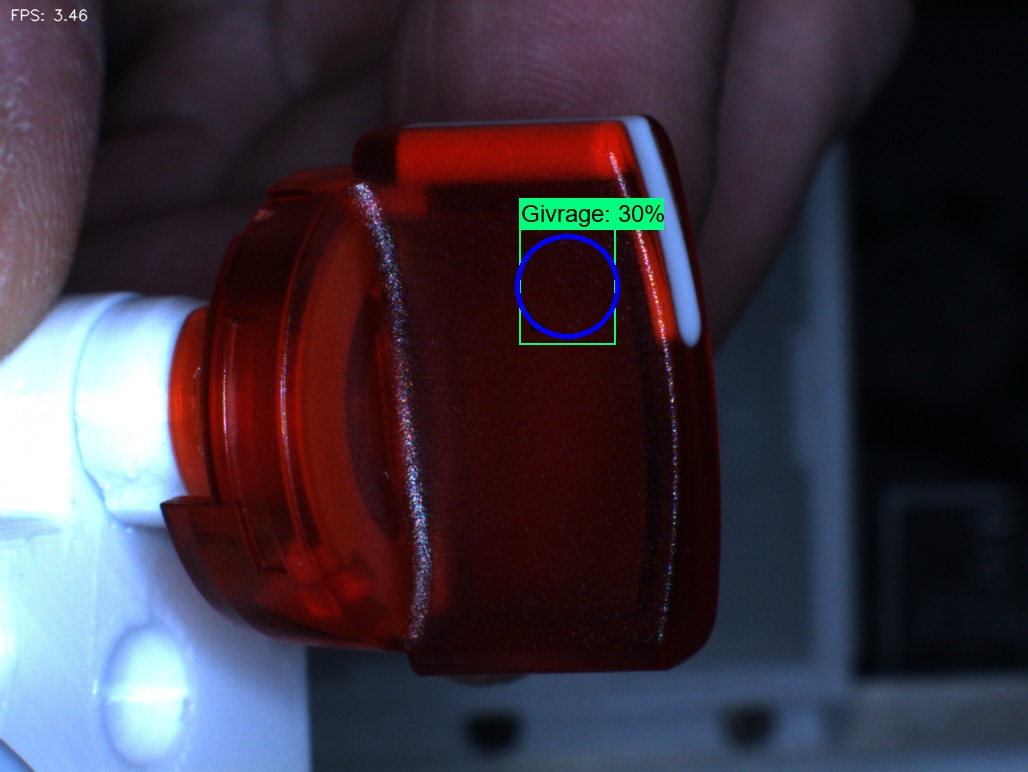PointNoir: (487, 292, 580, 383)
